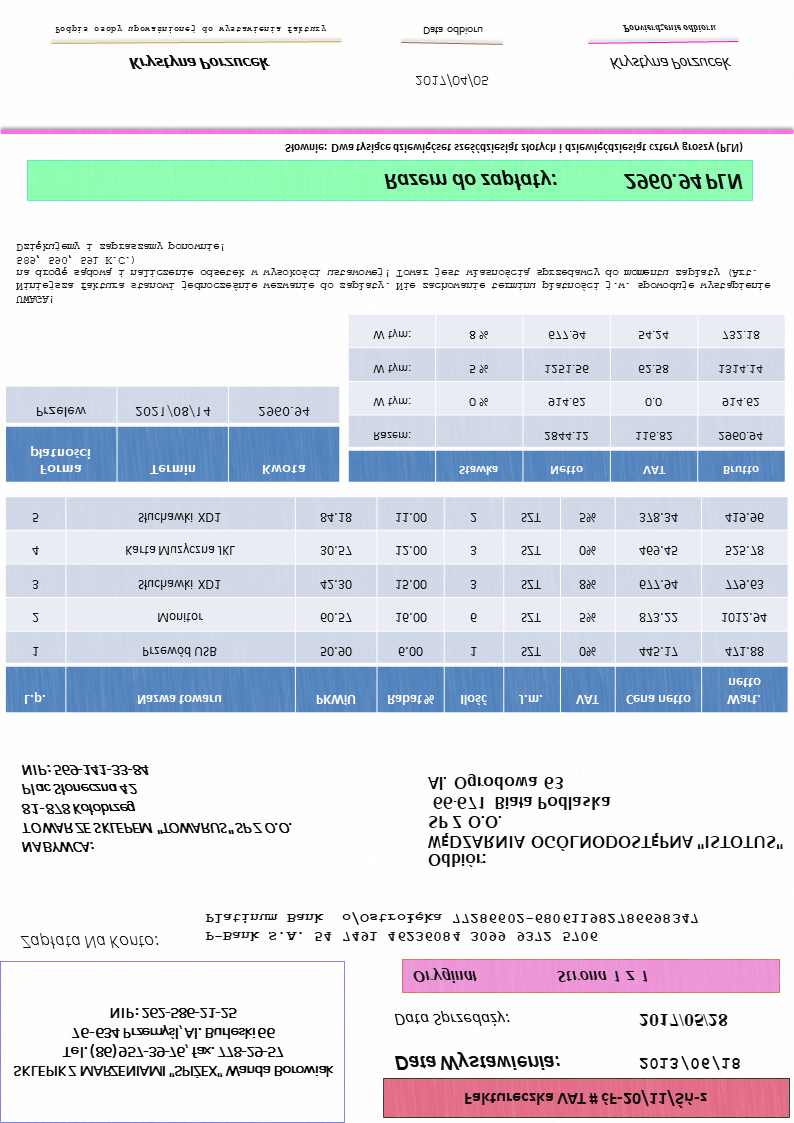Table: (4, 495, 790, 713), (347, 314, 788, 483), (3, 385, 340, 483)
TextBox: (12, 237, 773, 307), (426, 771, 786, 869), (17, 760, 297, 856), (10, 1003, 335, 1084), (202, 907, 703, 946), (282, 138, 745, 157), (381, 169, 745, 193), (462, 1088, 710, 1109), (52, 20, 327, 38), (413, 967, 653, 987), (393, 1050, 563, 1074), (17, 930, 162, 951), (127, 51, 272, 72), (607, 52, 733, 74), (392, 1009, 511, 1028), (637, 1052, 742, 1073), (412, 70, 491, 93), (638, 1010, 728, 1029), (621, 21, 719, 35), (421, 23, 486, 39)
